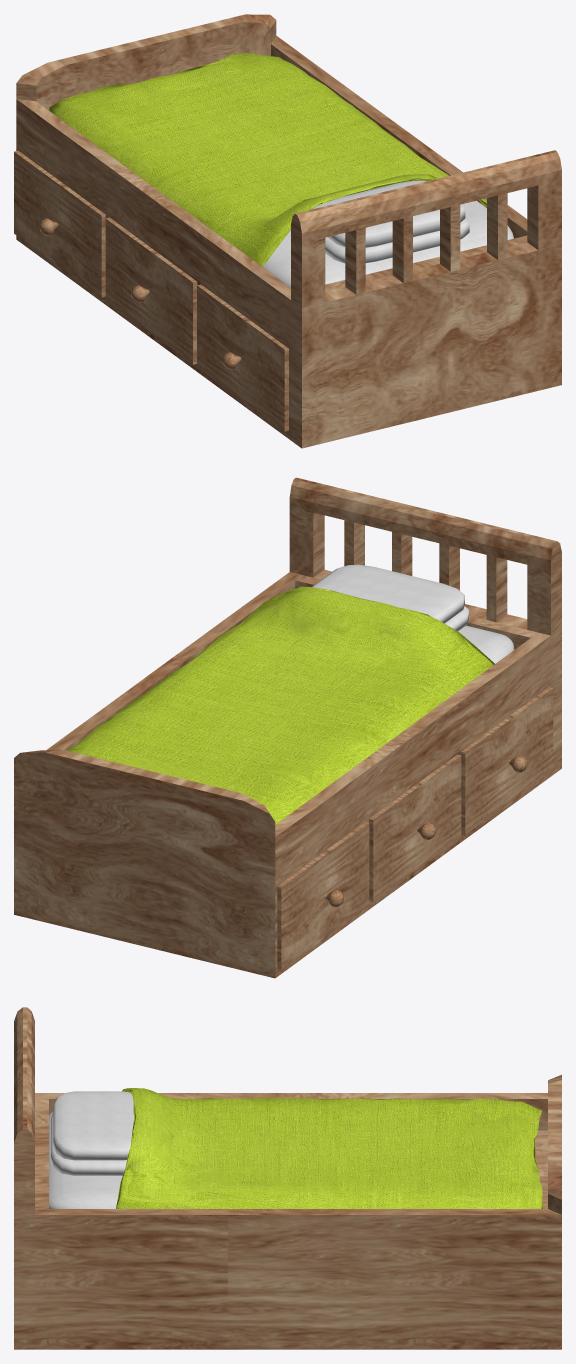
The picture shows the model from 3 angles, top to bottom: view 1: azimuth 30°, elevation 25°; view 2: azimuth 150°, elevation 25°; view 3: azimuth 270°, elevation 25°; orthographic projection. The views are drawn at different scales.
Parts seen in each view (by area): view 1: Single Bed 1, Duvet, Handle.002, Handle.001, Handle.003, Matress, Pillow 1, Pillow 2; view 2: Single Bed 1, Duvet, Handle.003, Handle.001, Handle.002, Pillow 1, Matress; view 3: Single Bed 1, Duvet, Pillow 1, Matress, Pillow 2.
Part boxes in pixels (x1,y1,x2,y2): Single Bed 1: [16, 14, 561, 448]; Duvet: [49, 53, 486, 266]; Handle.002: [105, 217, 197, 364]; Handle.001: [14, 150, 105, 297]; Handle.003: [197, 284, 288, 431]; Matress: [263, 200, 513, 287]; Pillow 1: [312, 180, 465, 247]; Pillow 2: [325, 216, 469, 263]; Single Bed 1: [14, 477, 561, 978]; Duvet: [67, 586, 494, 824]; Handle.003: [461, 687, 553, 834]; Handle.001: [277, 822, 369, 969]; Handle.002: [369, 754, 461, 902]; Pillow 1: [311, 564, 464, 623]; Matress: [458, 625, 514, 663]; Single Bed 1: [14, 1007, 561, 1349]; Duvet: [116, 1088, 542, 1208]; Pillow 1: [53, 1091, 133, 1160]; Matress: [49, 1112, 534, 1208]; Pillow 2: [51, 1113, 126, 1175].
Size of the model in its own units: 11.89 by 9.27 by 20.88.
3 materials, 3 textured.
